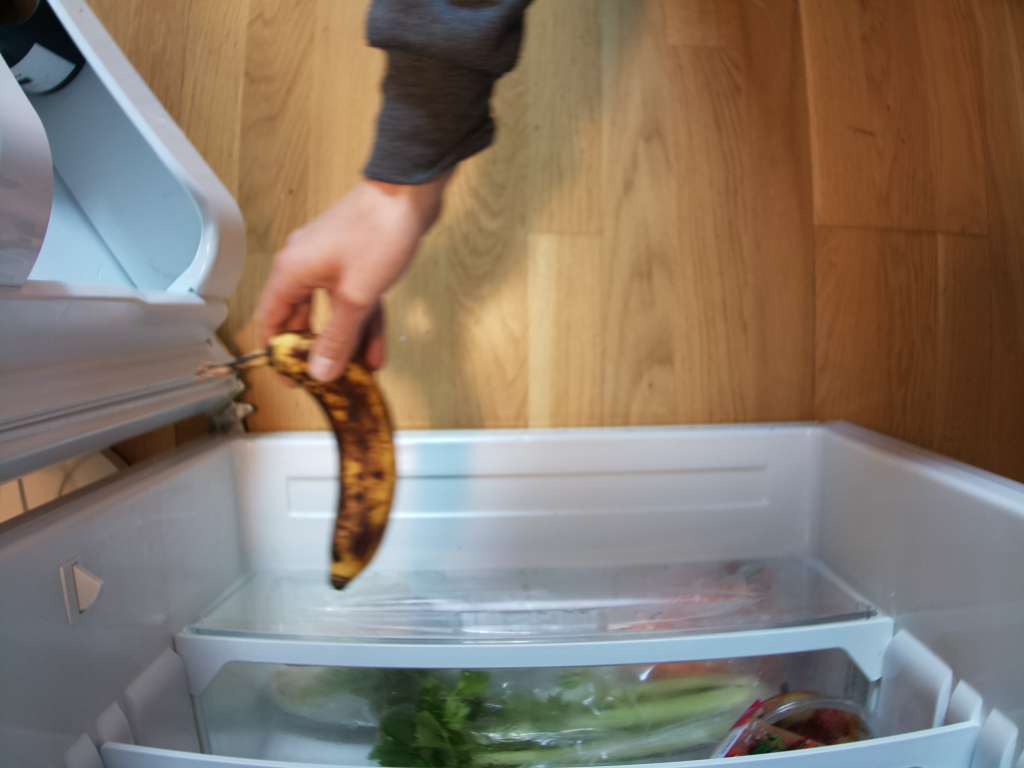banana-overripe: (196, 331, 396, 591)
